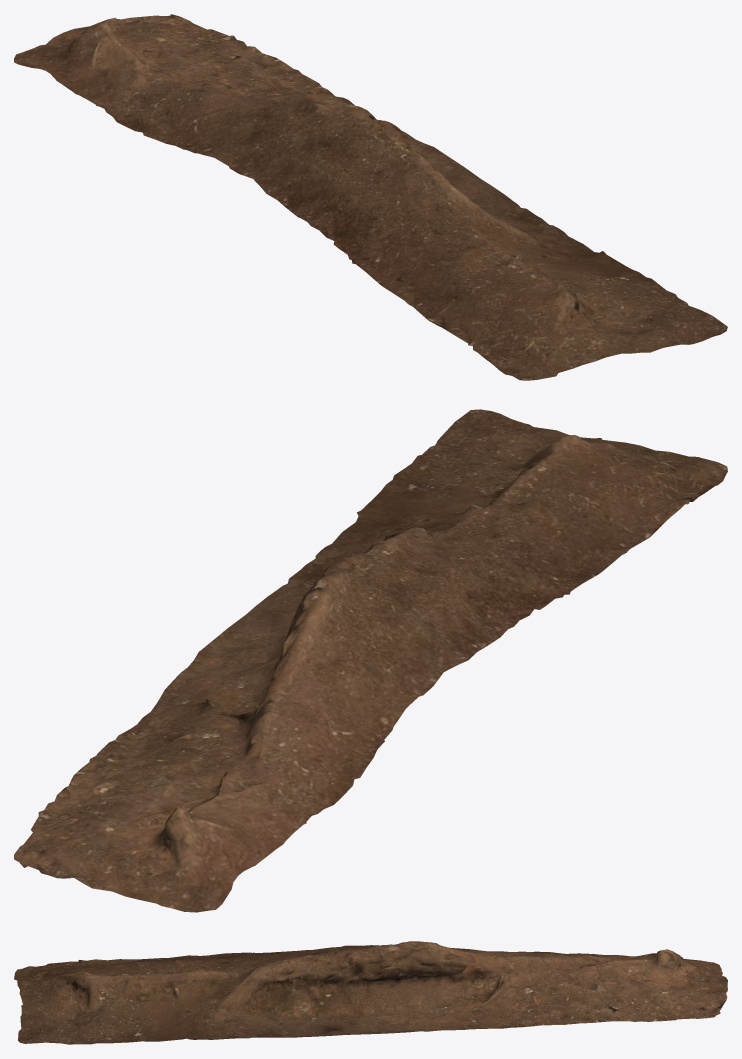
File: single_root_wood.glb
3 views of the same model, one above another, from view 1: azimuth 30°, elevation 25°; view 2: azimuth 150°, elevation 25°; view 3: azimuth 270°, elevation 25° (orthographic). The views are drawn at different scales.
Visible parts, largest first — view 1: single_root; view 2: single_root; view 3: single_root.
Part boxes in pixels (bbox=[...]): single_root: bbox=[14, 14, 727, 380]; single_root: bbox=[14, 409, 727, 912]; single_root: bbox=[14, 941, 727, 1044].
Bounding box in the file's own units: 0.5552 × 0.1769 × 1.84.
Materials: 1 (1 with a texture image).
